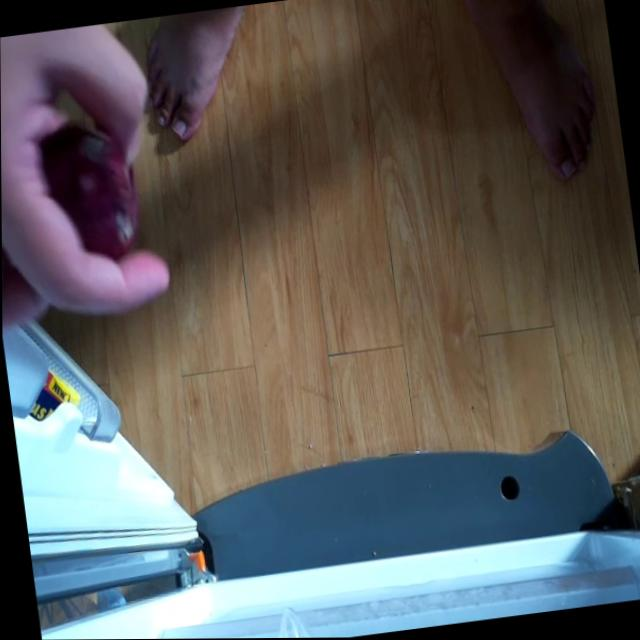onion: (37, 123, 145, 274)
